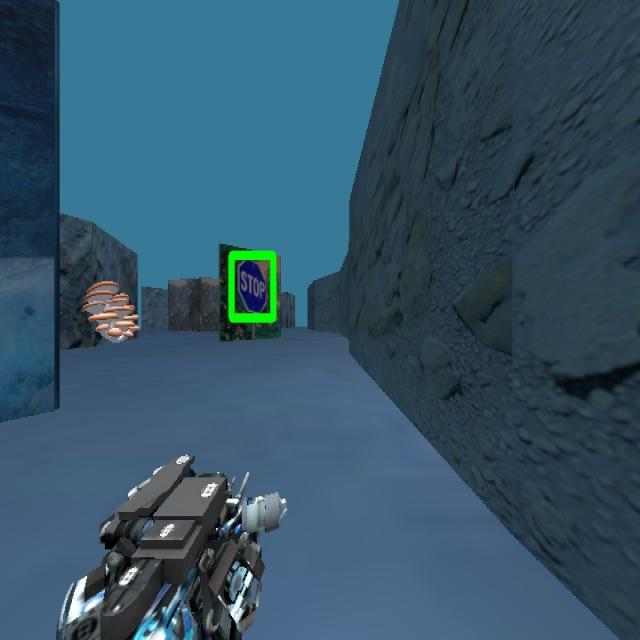Mushroom: (81, 278, 139, 342)
Stop_Sign: (227, 248, 277, 324)
